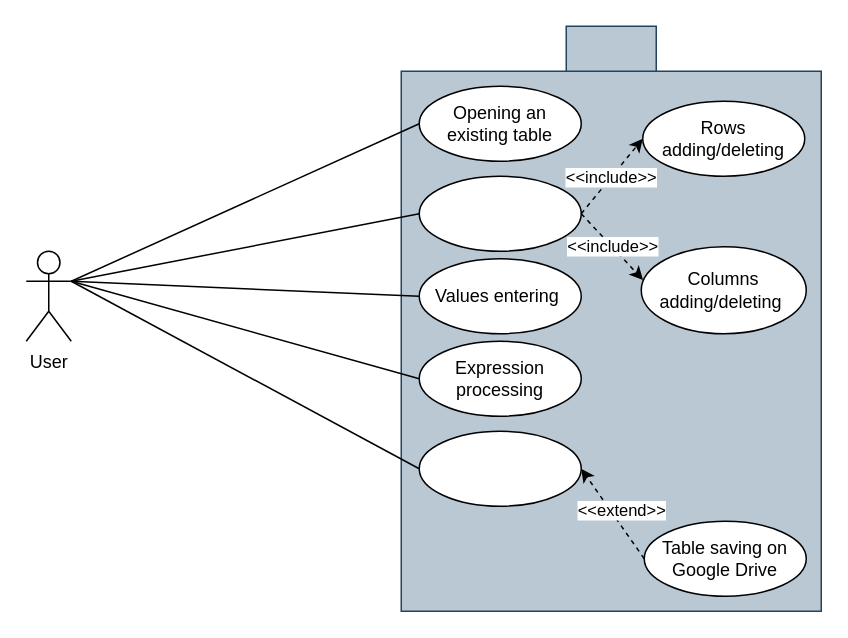
Image size: 848x638. Some labels were removed from this diagram. Each missing label, with the box of its shape:
Excel: (565, 25, 656, 71)
Table editing: (418, 175, 581, 251)
Table saving: (418, 430, 581, 506)
